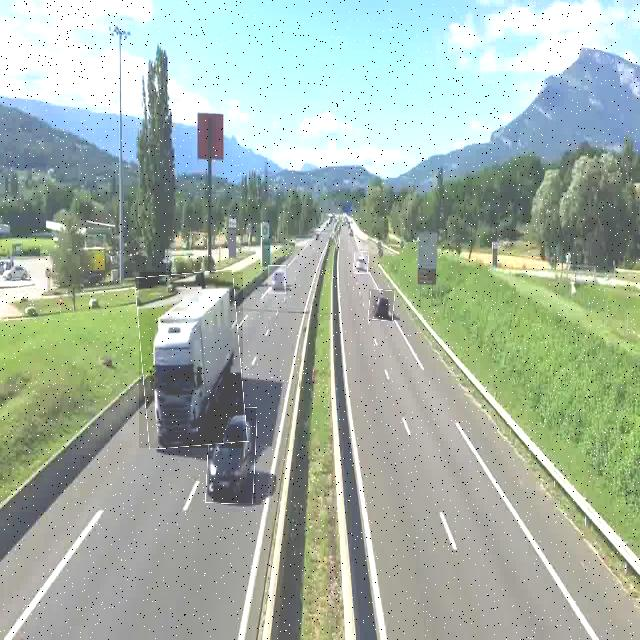Car: (207, 406, 256, 503), (369, 289, 394, 321), (268, 265, 286, 294), (354, 252, 369, 274)
Truck: (139, 272, 243, 448)
